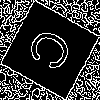C: (25, 24, 82, 79)
